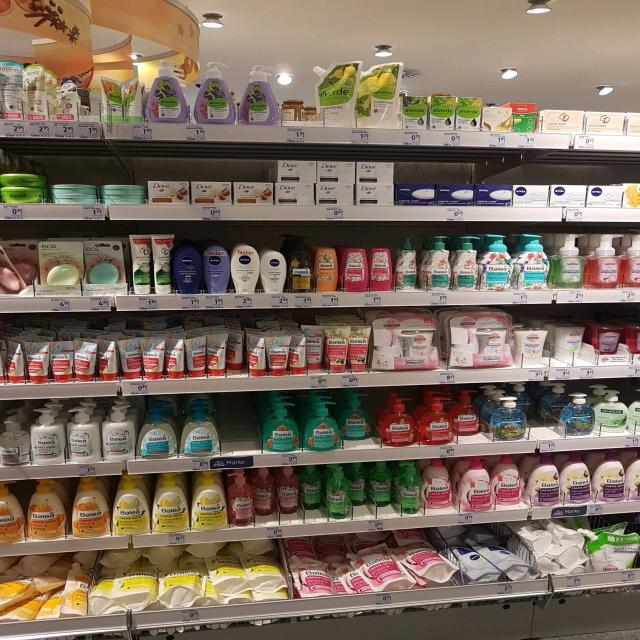void: (227, 394, 260, 454)
